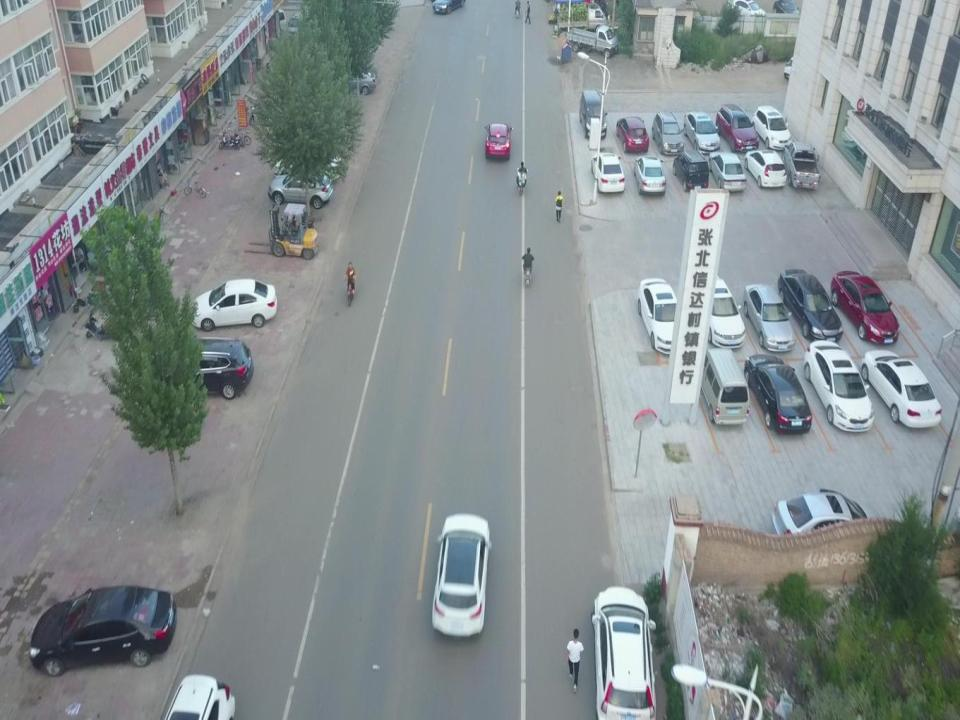car: (29, 585, 177, 677), (772, 488, 880, 552), (804, 340, 874, 432), (860, 349, 941, 427), (744, 355, 812, 435), (831, 271, 899, 344), (778, 267, 843, 342), (186, 280, 278, 332), (694, 273, 745, 348), (638, 278, 686, 354), (744, 283, 796, 351), (274, 147, 341, 181), (320, 65, 376, 95), (683, 111, 720, 153), (708, 152, 746, 191), (634, 156, 666, 195), (485, 122, 513, 160), (773, 0, 800, 24), (433, 0, 466, 14)
truck: (782, 141, 820, 189), (566, 23, 618, 58), (556, 3, 606, 35)
van: (591, 585, 656, 720), (432, 513, 492, 636), (151, 337, 254, 399), (696, 348, 750, 424), (153, 673, 234, 720), (268, 170, 333, 209), (716, 105, 759, 152), (752, 105, 791, 150), (744, 151, 786, 188), (672, 151, 708, 191), (579, 90, 608, 138), (652, 111, 684, 154), (286, 6, 322, 42), (592, 152, 624, 192), (247, 8, 287, 38), (616, 116, 649, 152), (725, 0, 768, 24), (784, 50, 811, 81)
